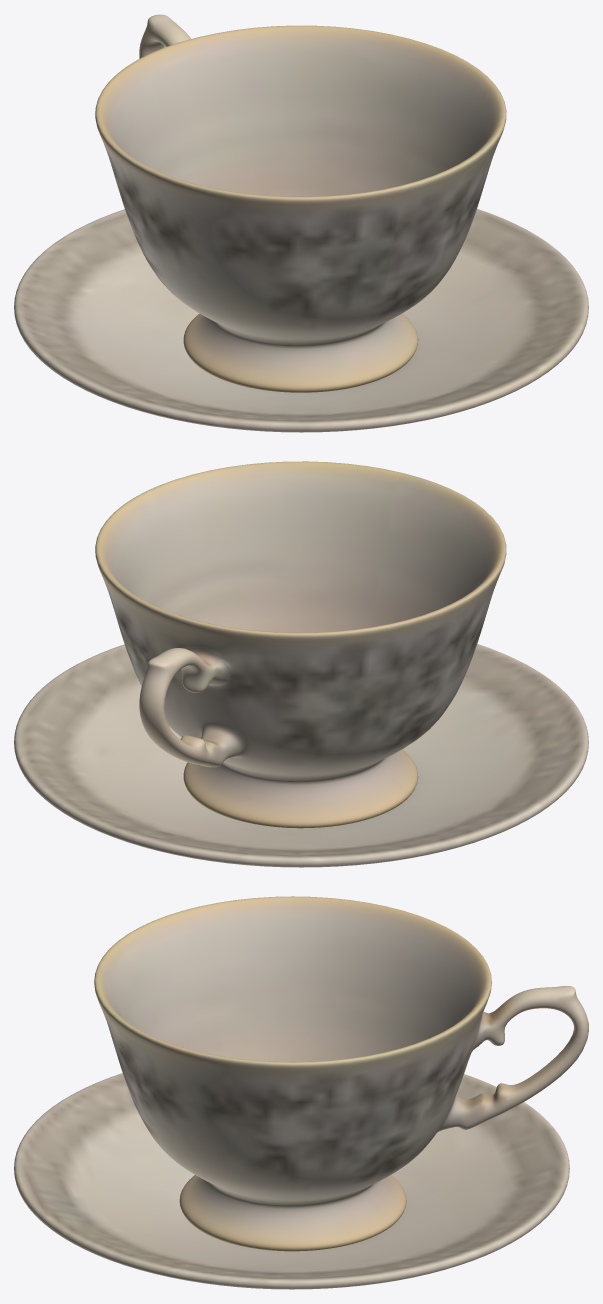
The model's file is porcelain-teacup.glb.
The picture shows the model from 3 angles, top to bottom: view 1: azimuth 30°, elevation 25°; view 2: azimuth 150°, elevation 25°; view 3: azimuth 270°, elevation 25°; orthographic projection. The views are drawn at different scales.
Visible parts, largest first — view 1: tea_cup, tea_saucer; view 2: tea_cup, tea_saucer; view 3: tea_cup, tea_saucer.
Part boxes in pixels (bbox=[...]): tea_cup: bbox=[95, 14, 506, 392]; tea_saucer: bbox=[14, 209, 588, 432]; tea_cup: bbox=[95, 461, 506, 828]; tea_saucer: bbox=[14, 644, 588, 867]; tea_cup: bbox=[94, 896, 588, 1251]; tea_saucer: bbox=[14, 1073, 569, 1289].
Size of the model in its own units: 0.1486 by 0.0704 by 0.1537.
2 materials, 2 textured.
